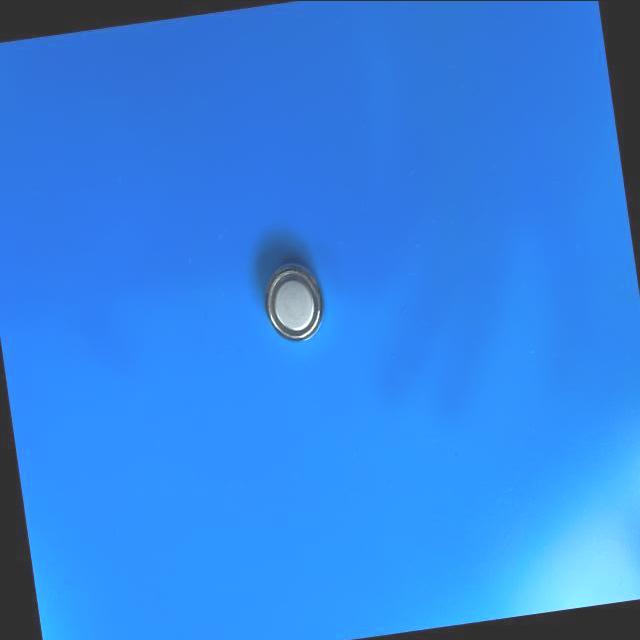COIN: (258, 255, 330, 348)
